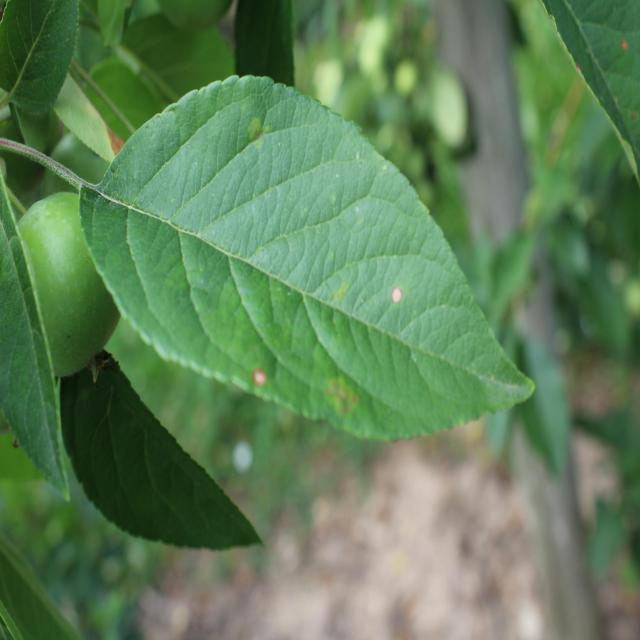rust: (80, 74, 538, 444)
